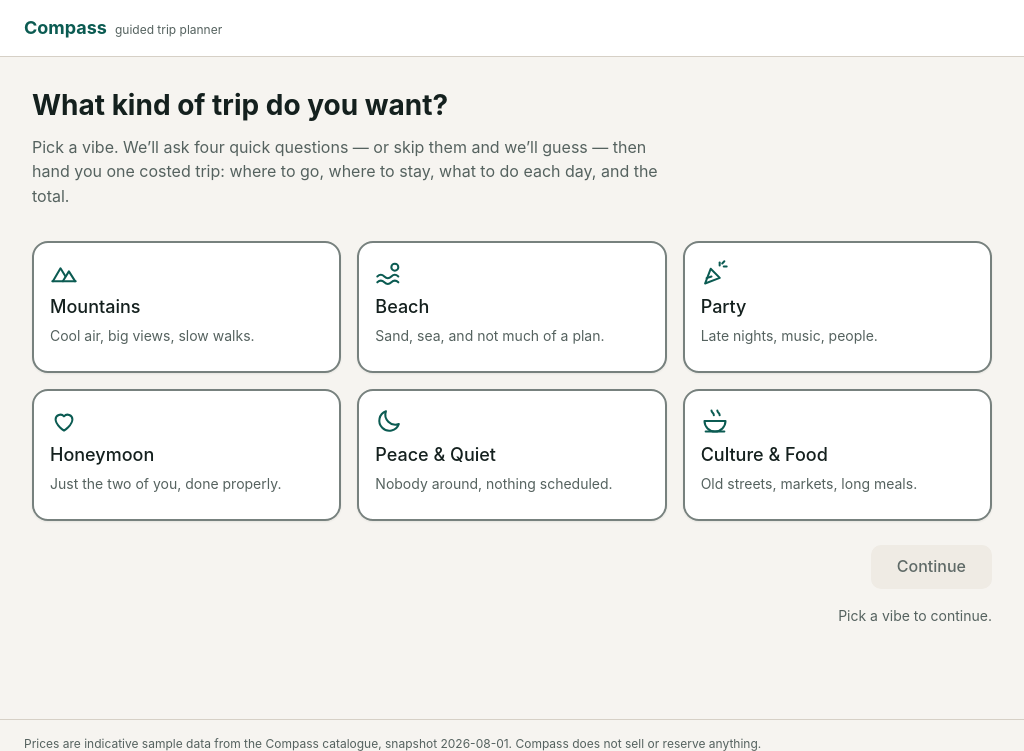
Scenario: S6 — the export dialog (R17, the fallback) › is not on screen before anything is clicked
Click the button "Beach Sand, sea, and not much of a plan.": coordinates (402, 306) [357,241,667,373]
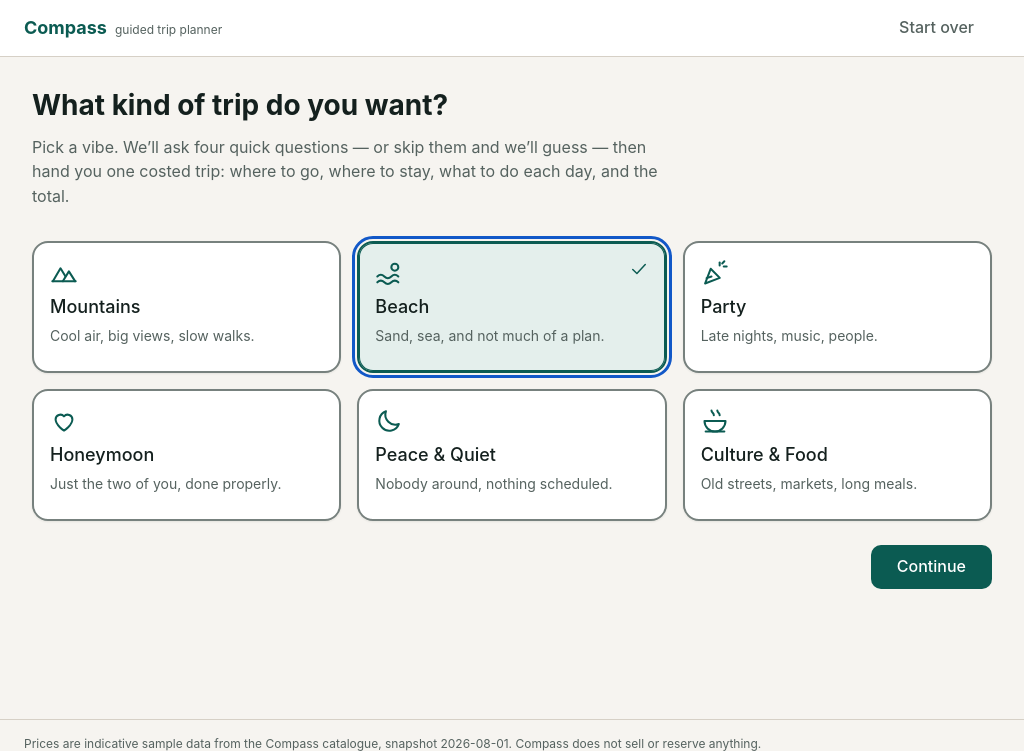
Click the button "Continue": coordinates (931, 567) [871,545,992,589]
(page scrolled)
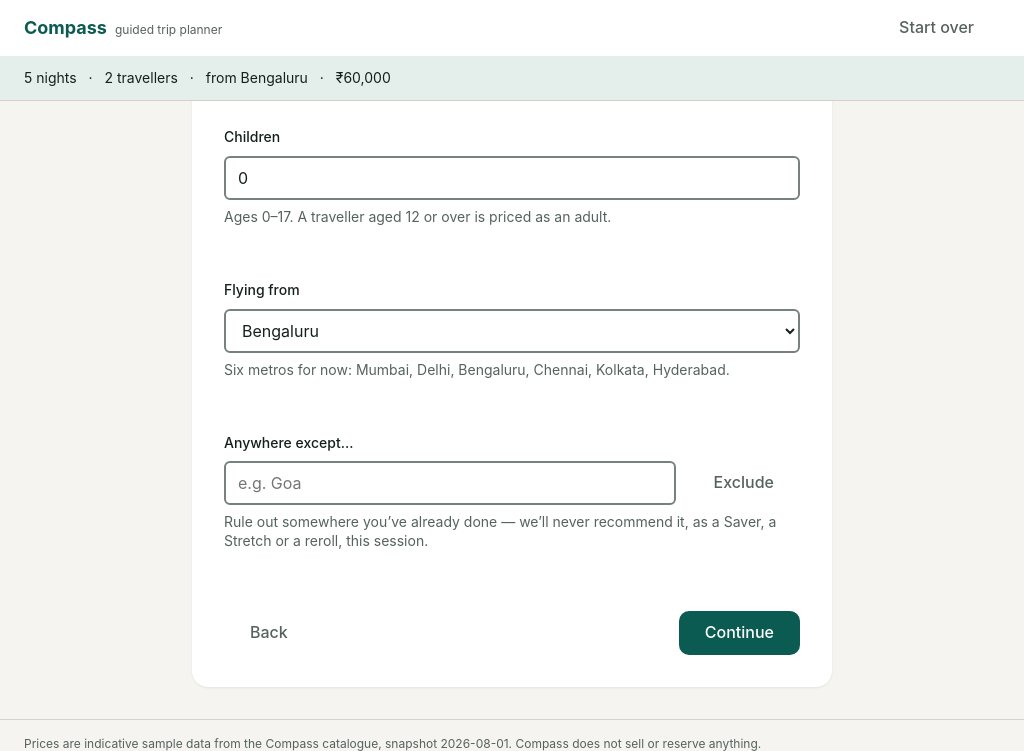
Click the button "Continue": coordinates (739, 633) [679,611,800,655]
(page scrolled)
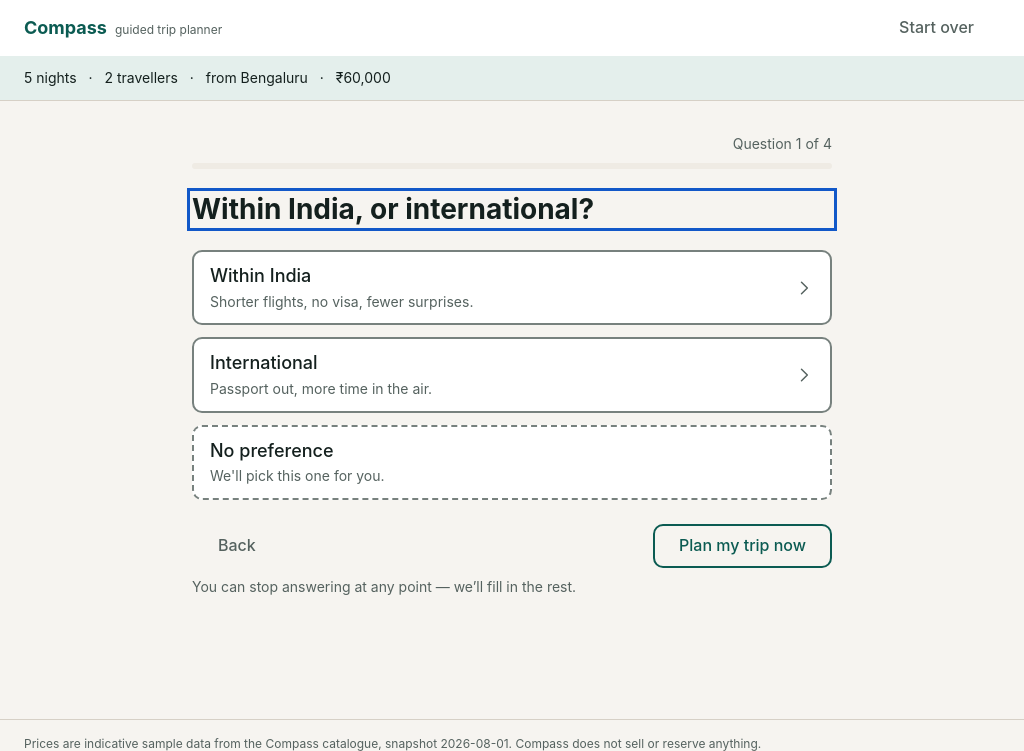
Now the text "Question 1 of 4" is shown, box [733,135,832,152]
Click the button "Plan my trip now": coordinates (743, 546) [653,524,832,568]
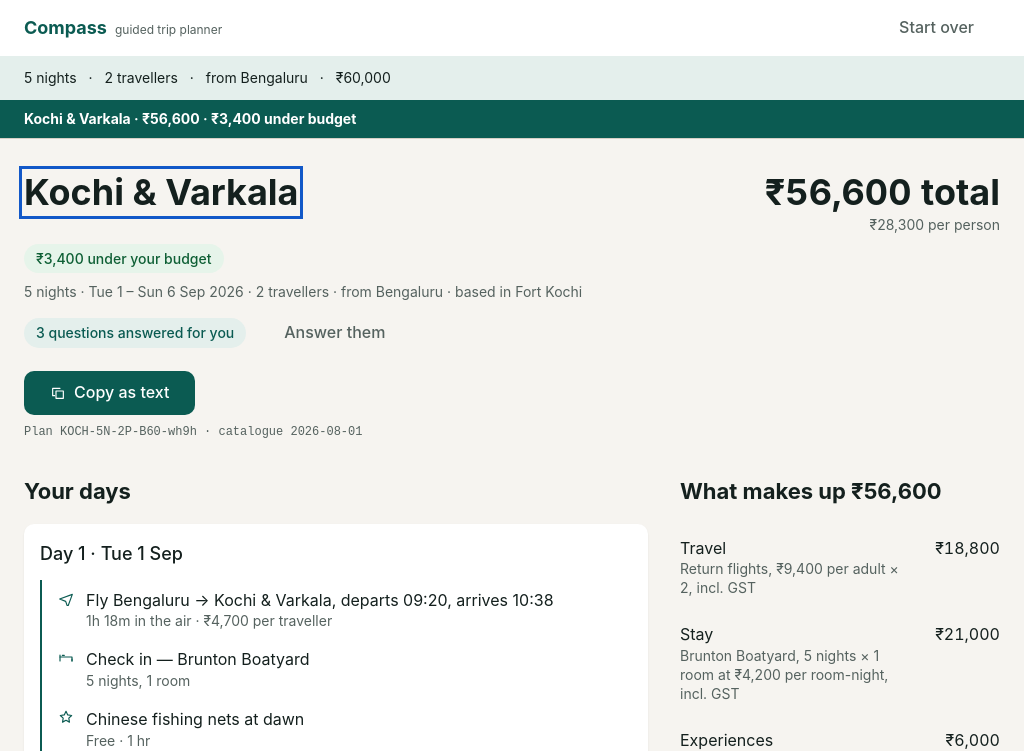
Now the element showing "Plan KOCH-5N-2P-B60-wh9h · catalogue 2026-08-01" is shown, box [24,423,362,442]
